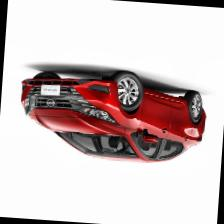NON-EV: (18, 64, 210, 168)
